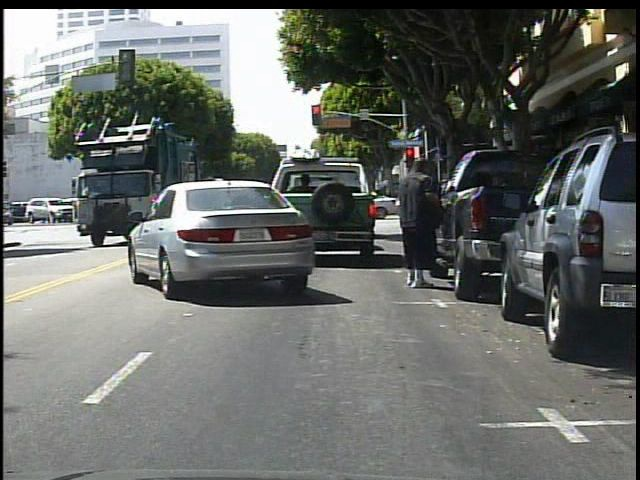person: (397, 155, 449, 291)
